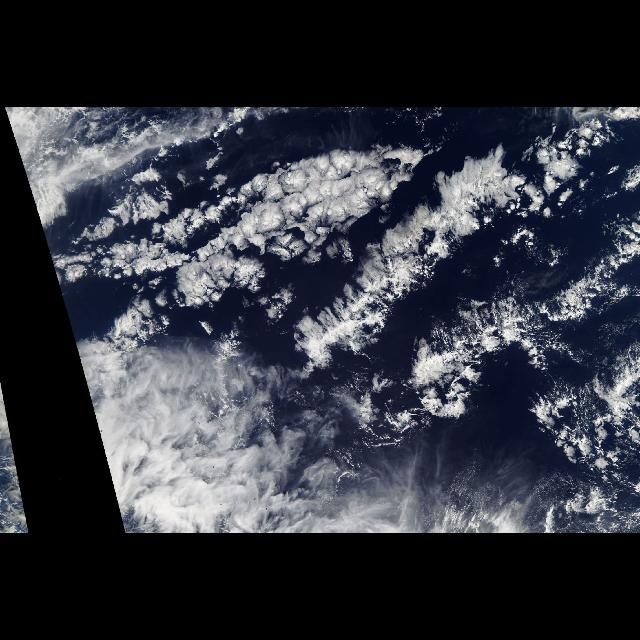Fish: (90, 140, 640, 446)
